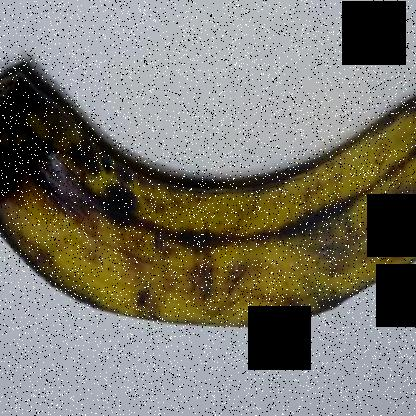overripe: (0, 32, 415, 348)
rotten: (0, 60, 102, 246)
